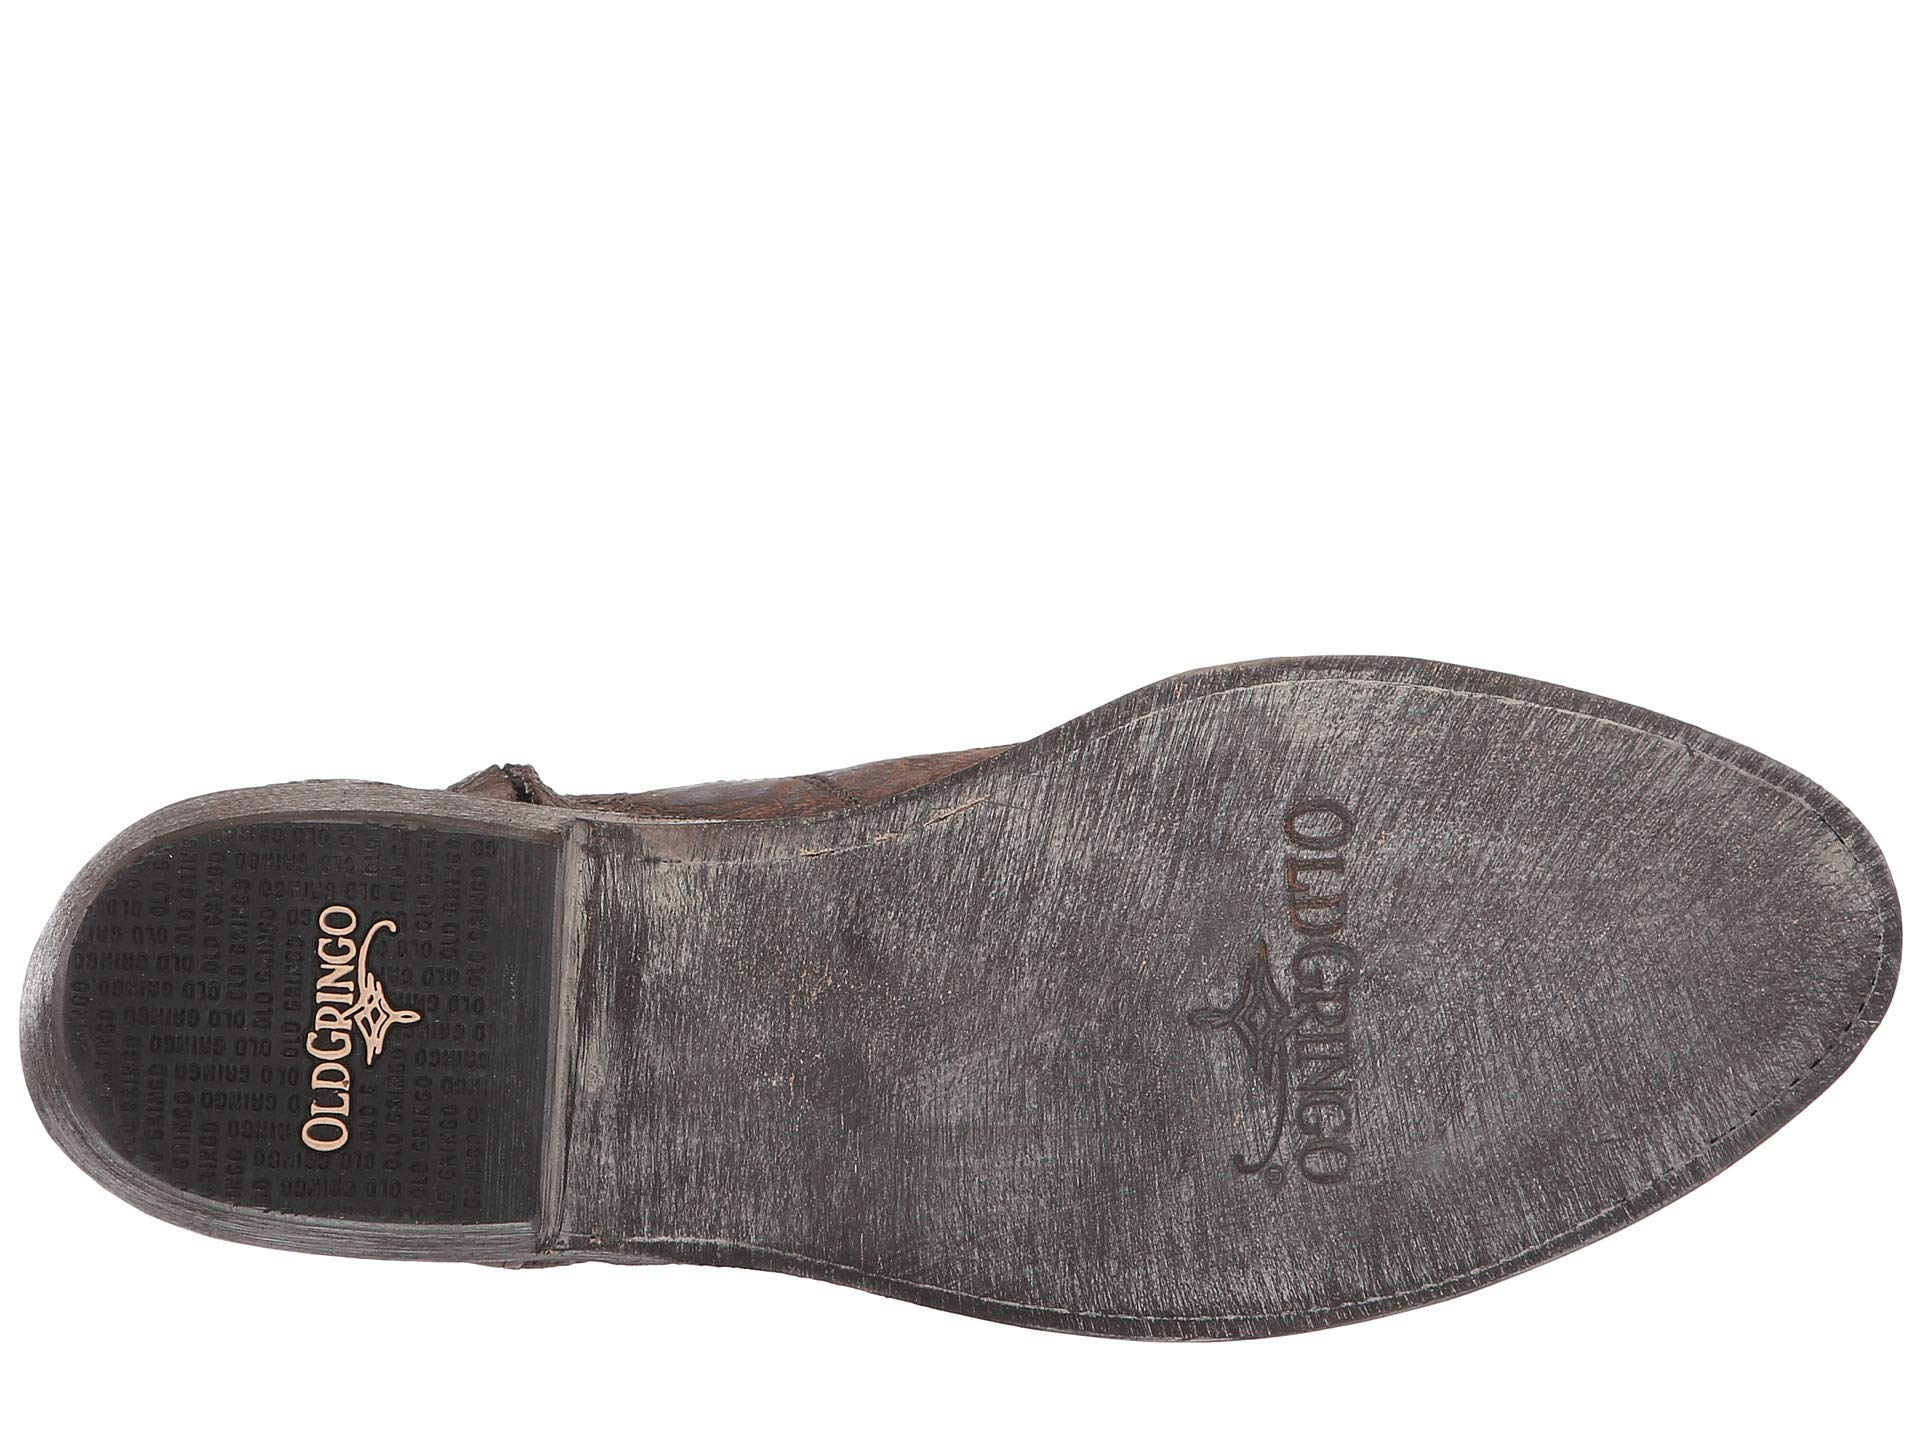circle: (1036, 762, 1581, 1219)
text: (1036, 762, 1581, 1219)
